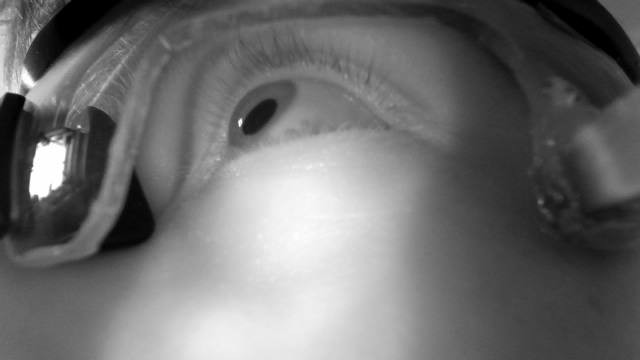pupil: (241, 97, 279, 136)
